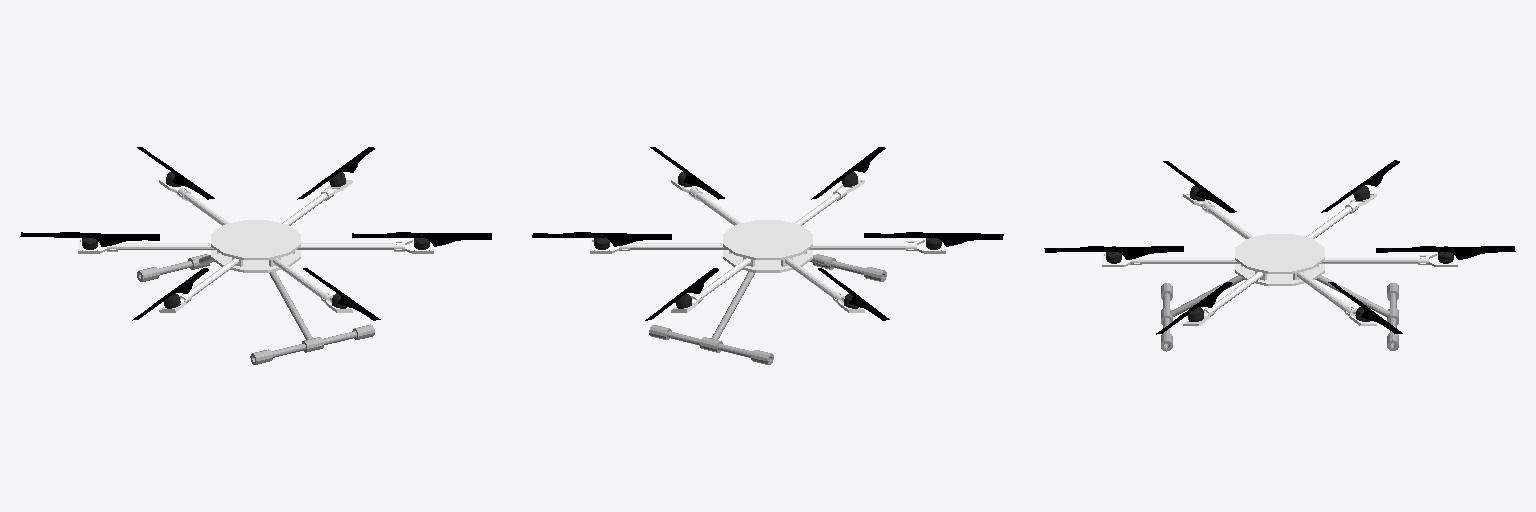
--- Facts derived from the render (not from the file) ---
The picture shows the robot from 3 angles, left to right: view 1: azimuth 30°, elevation 25°; view 2: azimuth 150°, elevation 25°; view 3: azimuth 270°, elevation 25°; orthographic projection.
Robot: drone — 21 links, 20 joints (6 continuous, 14 fixed); root link base_link; default pose: every joint at zero.
Visible links, largest first — view 1: base_link, foot_link_right, arm_link_1, blade_link_1, blade_link_4, arm_link_4, foot_link_left, arm_link_6, arm_link_5, arm_link_2, arm_link_3; view 2: base_link, foot_link_left, arm_link_5, blade_link_5, blade_link_2, arm_link_2, foot_link_right, arm_link_4, arm_link_3, arm_link_1, arm_link_6; view 3: base_link, foot_link_left, foot_link_right, arm_link_3, blade_link_6, blade_link_3, arm_link_6, arm_link_2, arm_link_1, arm_link_4, arm_link_5.
Link boxes in pixels (bbox=[...]): base_link: bbox=[211, 220, 300, 272]; foot_link_right: bbox=[250, 271, 374, 364]; arm_link_1: bbox=[297, 239, 433, 253]; blade_link_1: bbox=[352, 232, 491, 246]; blade_link_4: bbox=[20, 232, 159, 246]; arm_link_4: bbox=[78, 239, 214, 253]; foot_link_left: bbox=[137, 254, 214, 281]; arm_link_6: bbox=[273, 258, 352, 312]; arm_link_5: bbox=[159, 258, 238, 312]; arm_link_2: bbox=[282, 180, 352, 225]; arm_link_3: bbox=[159, 180, 229, 225]; base_link: bbox=[723, 220, 812, 272]; foot_link_left: bbox=[649, 271, 773, 364]; arm_link_5: bbox=[809, 239, 945, 253]; blade_link_5: bbox=[864, 232, 1003, 246]; blade_link_2: bbox=[532, 232, 671, 246]; arm_link_2: bbox=[590, 239, 726, 253]; foot_link_right: bbox=[809, 254, 886, 281]; arm_link_4: bbox=[785, 258, 864, 312]; arm_link_3: bbox=[671, 258, 750, 312]; arm_link_1: bbox=[671, 180, 741, 225]; arm_link_6: bbox=[794, 180, 864, 225]; base_link: bbox=[1235, 234, 1324, 285]; foot_link_left: bbox=[1315, 275, 1398, 350]; foot_link_right: bbox=[1161, 275, 1244, 351]; arm_link_3: bbox=[1320, 253, 1457, 266]; blade_link_6: bbox=[1044, 246, 1183, 259]; blade_link_3: bbox=[1376, 246, 1515, 259]; arm_link_6: bbox=[1102, 253, 1239, 266]; arm_link_2: bbox=[1297, 272, 1376, 325]; arm_link_1: bbox=[1183, 272, 1262, 325]; arm_link_4: bbox=[1306, 194, 1376, 238]; arm_link_5: bbox=[1183, 194, 1252, 238].
Bounding box of the posed robot: 1.51 × 1.72 × 0.3067 m (x, y, z).
Meshes: 21 distinct files referenced, 21 mesh visuals loaded (21 binary STL).

URDF robot description (drone):
<?xml version="1.0"?>
<robot
  name="drone">
  
  <gazebo>
    <plugin name="propulsion_plugin" filename="libpropulsion_plugin.so">
    </plugin>
  </gazebo>

  <!--<gazebo>
    <plugin name="control_plugin" filename="libcontrol_plugin.so">
    </plugin>
  </gazebo>-->

  <gazebo>
    <plugin name="fake_sensor_plugin" filename="libfake_sensor_plugin.so">
    </plugin>
  </gazebo>

  <gazebo>
    <plugin name="gazebo_ros_control" filename="libgazebo_ros_control.so">
      <robotNamespace>/drone</robotNamespace>
    </plugin>
  </gazebo>

  <gazebo>
    <plugin name="drone_internal_imu_plugin" filename="libhector_gazebo_ros_imu.so" >
      <robotNamespace>/drone</robotNamespace>
      <alwaysOn>true</alwaysOn>
      <bodyName>base_link</bodyName>
      <frameName>base_link</frameName>
      <topicName>IMU/imu_data</topicName>
      <serviceName>drone/internal_sensors/imu_service</serviceName>
      <updateRate>100.0</updateRate>
      <gaussianNoise>0.001</gaussianNoise>
      <!-- accelerometer params -->
      <accelOffset>0.0 0.0 0.0</accelOffset>
      <accelGaussianNoise>0.0003 0.0003 0.0003</accelGaussianNoise>
      <accelDrift>0.00004 0.00004 0.00004</accelDrift>
      <accelFrequency>0.0025 0.0025 0.0025</accelFrequency>
      <!-- gyroscope params -->
      <rateOffset>0.0 0.0 0.0</rateOffset>
      <rateDrift>0.01 0.01 0.01</rateDrift>
      <rateDriftFrequency>0.001 0.001 0.001</rateDriftFrequency>
      <rateGaussianNoise>0.01 0.01 0.01</rateGaussianNoise>
    </plugin>
  </gazebo>

  <gazebo>
    <plugin name="drone_internal_magnetic_sim" filename="libhector_gazebo_ros_magnetic.so">
      <robotNamespace>/drone</robotNamespace>
      <updateRate>100.0</updateRate>
      <bodyName>base_link</bodyName>
      <frameId>base_link</frameId>
      <topicName>MAGNET/magnetic_data</topicName>
      <offset>0 0 0</offset>
      <drift>0.0 0.0 0.0</drift>
      <gaussianNoise>1.3e-3 1.3e-3 1.3e-3</gaussianNoise>
    </plugin>
  </gazebo>

  <gazebo>
    <plugin name="drone_internal_gps_sim" filename="libhector_gazebo_ros_gps.so">
      <robotNamespace>/drone</robotNamespace>
      <updateRate>4.0</updateRate>
      <bodyName>base_link</bodyName>
      <frameId>base_link</frameId>
      <topicName>GPS/fix</topicName>
      <velocityTopicName>GPS/fix_velocity</velocityTopicName>
      <referenceLatitude>49.860246</referenceLatitude>
      <referenceLongitude>8.687077</referenceLongitude>
      <drift>0.0 0.0 0.0</drift>
      <gaussianNoise>0.01 0.01 0.01</gaussianNoise>
      <velocityDrift>0 0 0</velocityDrift>
      <velocityGaussianNoise>0.01 0.01 0.01</velocityGaussianNoise>
    </plugin>
  </gazebo>

  <gazebo reference="base_link">
    <sensor type="camera" name="camera1">
      <update_rate>30.0</update_rate>
      <camera name="head">
        <vertical_fov>3.1415926</vertical_fov>
        <image>
          <width>800</width>
          <height>800</height>
          <format>R8G8B8</format>
        </image>
        <clip>
          <near>0.02</near>
          <far>300</far>
        </clip>
        <noise>
          <type>gaussian</type>  -->
          <!-- Noise is sampled independently per pixel on each frame.
               That pixel's noise value is added to each of its color
               channels, which at that point lie in the range [0,1]. -->
          <mean>0.0</mean>
          <stddev>0.007</stddev>
        </noise>
      </camera>
      <plugin name="camera_controller" filename="libgazebo_ros_camera.so">
        <robotNamespace>/drone</robotNamespace>
        <alwaysOn>true</alwaysOn>
        <updateRate>0.0</updateRate>
        <cameraName>camera1</cameraName>
        <imageTopicName>image_raw</imageTopicName>
        <cameraInfoTopicName>camera_info</cameraInfoTopicName>
        <frameName>base_link</frameName>
        <hackBaseline>0.07</hackBaseline>
        <distortionK1>0.0</distortionK1>
        <distortionK2>0.0</distortionK2>
        <distortionK3>0.0</distortionK3>
        <distortionT1>0.0</distortionT1>
        <distortionT2>0.0</distortionT2>
      </plugin>
    </sensor>
  </gazebo>


  <!-- <link
    name="dummy_link">
    <inertial>
      <origin
        xyz="4.8268E-18 2.8159E-17 0.005"
        rpy="0 0 0" />
      <mass
        value="0" />
      <inertia
        ixx="0"
        ixy="0"
        ixz="0"
        iyy="0"
        iyz="0"
        izz="0" />
    </inertial>
    <visual>
      <origin
        xyz="0 0 0"
        rpy="0 0 0" />
      <geometry>
        <mesh
          filename="package://flypulator_description/meshes/dummy_link.STL" />
      </geometry>
      <material
        name="">
        <color
          rgba="1 1 1 1" />
      </material>
    </visual>
    <collision>
      <origin
        xyz="0 0 0"
        rpy="0 0 0" />
      <geometry>
        <mesh
          filename="package://flypulator_description/meshes/dummy_link.STL" />
      </geometry>
    </collision>
  </link> -->
  <link
    name="base_link">
    <inertial>
      <origin
        xyz="5.4812E-15 1.1988E-14 0.03"
        rpy="0 0 0" />
      <mass
        value="3.2461" />
      <inertia
        ixx="0.024024"
        ixy="4.5619E-06"
        ixz="2.0062E-17"
        iyy="0.024019"
        iyz="-6.6864E-17"
        izz="0.044056" />
    </inertial>
    <visual>
      <origin
        xyz="0 0 0"
        rpy="0 0 0" />
      <geometry>
        <mesh
          filename="package://flypulator_description/meshes/base_link.STL" />
      </geometry>
      <material
        name="">
        <color
          rgba="1 1 1 1" />
      </material>
    </visual>
    <collision>
      <origin
        xyz="0 0 0"
        rpy="0 0 0" />
      <geometry>
        <mesh
          filename="package://flypulator_description/meshes/base_link.STL" />
      </geometry>
    </collision>
  </link>
  <!-- <joint
    name="base_joint"
    type="fixed">
    <origin
      xyz="0 0 0"
      rpy="0 0 0" />
    <parent
      link="dummy_link" />
    <child
      link="base_link" />
    <axis
      xyz="0 0 0" />
  </joint> -->
  <link
    name="arm_link_1">
    <inertial>
      <origin
        xyz="7.5838E-05 0.35929 0.00028889"
        rpy="0 0 0" />
      <mass
        value="0.11307" />
      <inertia
        ixx="0.0035834"
        ixy="-1.7536E-06"
        ixz="3.334E-06"
        iyy="2.9806E-05"
        iyz="-6.7287E-06"
        izz="0.0035963" />
    </inertial>
    <visual>
      <origin
        xyz="0 0 0"
        rpy="0 0 0" />
      <geometry>
        <mesh
          filename="package://flypulator_description/meshes/arm_link_1.STL" />
      </geometry>
      <material
        name="">
        <color
          rgba="1 1 1 1" />
      </material>
    </visual>
    <collision>
      <origin
        xyz="0 0 0"
        rpy="0 0 0" />
      <geometry>
        <mesh
          filename="package://flypulator_description/meshes/arm_link_1.STL" />
      </geometry>
    </collision>
  </link>
  <joint
    name="arm_joint_1"
    type="fixed">
    <origin
      xyz="0.037926 -0.021897 0.03"
      rpy="0 0 -2.0944" />
    <parent
      link="base_link" />
    <child
      link="arm_link_1" />
    <axis
      xyz="0 0 0" />
  </joint>
  <link
    name="motor_link_1">
    <inertial>
      <origin
        xyz="2.0629E-07 -3.6291E-08 0.019536"
        rpy="0 0 0" />
      <mass
        value="0.098041" />
      <inertia
        ixx="3.2619E-05"
        ixy="-3.493E-10"
        ixz="3.4958E-10"
        iyy="3.2621E-05"
        iyz="-6.3762E-11"
        izz="4.3659E-05" />
    </inertial>
    <visual>
      <origin
        xyz="0 0 0"
        rpy="0 0 0" />
      <geometry>
        <mesh
          filename="package://flypulator_description/meshes/motor_link_1.STL" />
      </geometry>
      <material
        name="">
        <color
          rgba="0.2 0.2 0.2 1" />
      </material>
    </visual>
    <collision>
      <origin
        xyz="0 0 0"
        rpy="0 0 0" />
      <geometry>
        <mesh
          filename="package://flypulator_description/meshes/motor_link_1.STL" />
      </geometry>
    </collision>
  </link>
  <joint
    name="motor_joint_1"
    type="fixed">
    <origin
      xyz="0.0011025 0.5623 0.0048775"
      rpy="-0.23736 -0.00041702 -1.5725" />
    <parent
      link="arm_link_1" />
    <child
      link="motor_link_1" />
    <axis
      xyz="0 0 0" />
  </joint>
  <link
    name="blade_link_1">
    <inertial>
      <origin
        xyz="3.7145E-06 1.0619E-06 -0.0016268"
        rpy="0 0 0" />
      <mass
        value="0.062744" />
      <inertia
        ixx="7.9927E-06"
        ixy="2.4595E-05"
        ixz="5.8974E-10"
        iyy="0.0014004"
        iyz="1.7645E-10"
        izz="0.0014072" />
    </inertial>
    <visual>
      <origin
        xyz="0 0 0"
        rpy="0 0 0" />
      <geometry>
        <mesh
          filename="package://flypulator_description/meshes/blade_link_1.STL" />
      </geometry>
      <material
        name="">
        <color
          rgba="0 0 0 1" />
      </material>
    </visual>
    <collision>
      <origin
        xyz="0 0 0"
        rpy="0 0 0" />
      <geometry>
        <mesh
          filename="package://flypulator_description/meshes/blade_link_1.STL" />
      </geometry>
    </collision>
  </link>
  <joint
    name="blade_joint_1"
    type="continuous">
    <origin
      xyz="0 0 0.046"
      rpy="0 0 0" />
    <parent
      link="motor_link_1" />
    <child
      link="blade_link_1" />
    <axis
      xyz="0 0 1" />
    <limit
      effort="0"
      velocity="630" />
  </joint>
  <link
    name="arm_link_2">
    <inertial>
      <origin
        xyz="-6.4599E-05 0.3593 0.00029161"
        rpy="0 0 0" />
      <mass
        value="0.11307" />
      <inertia
        ixx="0.0035834"
        ixy="1.516E-06"
        ixz="-3.332E-06"
        iyy="2.9806E-05"
        iyz="-6.7862E-06"
        izz="0.0035964" />
    </inertial>
    <visual>
      <origin
        xyz="0 0 0"
        rpy="0 0 0" />
      <geometry>
        <mesh
          filename="package://flypulator_description/meshes/arm_link_2.STL" />
      </geometry>
      <material
        name="">
        <color
          rgba="1 1 1 1" />
      </material>
    </visual>
    <collision>
      <origin
        xyz="0 0 0"
        rpy="0 0 0" />
      <geometry>
        <mesh
          filename="package://flypulator_description/meshes/arm_link_2.STL" />
      </geometry>
    </collision>
  </link>
  <joint
    name="arm_joint_2"
    type="fixed">
    <origin
      xyz="0.036827 0.021262 0.03"
      rpy="0 0 -1.0472" />
    <parent
      link="base_link" />
    <child
      link="arm_link_2" />
    <axis
      xyz="0 0 0" />
  </joint>
  <link
    name="motor_link_2">
    <inertial>
      <origin
        xyz="1.2767E-07 1.5705E-07 0.019536"
        rpy="0 0 0" />
      <mass
        value="0.098041" />
      <inertia
        ixx="3.2621E-05"
        ixy="-6.6552E-10"
        ixz="2.194E-10"
        iyy="3.2619E-05"
        iyz="2.699E-10"
        izz="4.3659E-05" />
    </inertial>
    <visual>
      <origin
        xyz="0 0 0"
        rpy="0 0 0" />
      <geometry>
        <mesh
          filename="package://flypulator_description/meshes/motor_link_2.STL" />
      </geometry>
      <material
        name="">
        <color
          rgba="0.2 0.2 0.2 1" />
      </material>
    </visual>
    <collision>
      <origin
        xyz="0 0 0"
        rpy="0 0 0" />
      <geometry>
        <mesh
          filename="package://flypulator_description/meshes/motor_link_2.STL" />
      </geometry>
    </collision>
  </link>
  <joint
    name="motor_joint_2"
    type="fixed">
    <origin
      xyz="-0.001249 0.56231 0.0048421"
      rpy="0.23736 0.00041702 -1.5725" />
    <parent
      link="arm_link_2" />
    <child
      link="motor_link_2" />
    <axis
      xyz="0 0 0" />
  </joint>
  <link
    name="blade_link_2">
    <inertial>
      <origin
        xyz="-1.4066E-05 -2.5524E-06 -0.0016265"
        rpy="0 0 0" />
      <mass
        value="0.062743" />
      <inertia
        ixx="8.3687E-06"
        ixy="3.3633E-05"
        ixz="-2.0545E-09"
        iyy="0.0014001"
        iyz="-4.4118E-10"
        izz="0.0014074" />
    </inertial>
    <visual>
      <origin
        xyz="0 0 0"
        rpy="0 0 0" />
      <geometry>
        <mesh
          filename="package://flypulator_description/meshes/blade_link_2.STL" />
      </geometry>
      <material
        name="">
        <color
          rgba="0 0 0 1" />
      </material>
    </visual>
    <collision>
      <origin
        xyz="0 0 0"
        rpy="0 0 0" />
      <geometry>
        <mesh
          filename="package://flypulator_description/meshes/blade_link_2.STL" />
      </geometry>
    </collision>
  </link>
  <joint
    name="blade_joint_2"
    type="continuous">
    <origin
      xyz="0 0 0.046"
      rpy="0 0 0" />
    <parent
      link="motor_link_2" />
    <child
      link="blade_link_2" />
    <axis
      xyz="0 0 1" />
    <limit
      effort="0"
      velocity="630" />
  </joint>
  <link
    name="arm_link_3">
    <inertial>
      <origin
        xyz="7.5838E-05 0.3593 0.00028889"
        rpy="0 0 0" />
      <mass
        value="0.11307" />
      <inertia
        ixx="0.0035834"
        ixy="-1.7536E-06"
        ixz="3.334E-06"
        iyy="2.9806E-05"
        iyz="-6.7287E-06"
        izz="0.0035963" />
    </inertial>
    <visual>
      <origin
        xyz="0 0 0"
        rpy="0 0 0" />
      <geometry>
        <mesh
          filename="package://flypulator_description/meshes/arm_link_3.STL" />
      </geometry>
      <material
        name="">
        <color
          rgba="1 1 1 1" />
      </material>
    </visual>
    <collision>
      <origin
        xyz="0 0 0"
        rpy="0 0 0" />
      <geometry>
        <mesh
          filename="package://flypulator_description/meshes/arm_link_3.STL" />
      </geometry>
    </collision>
  </link>
  <joint
    name="arm_joint_3"
    type="fixed">
    <origin
      xyz="0 0.043785 0.03"
      rpy="0 0 0" />
    <parent
      link="base_link" />
    <child
      link="arm_link_3" />
    <axis
      xyz="0 0 0" />
  </joint>
  <link
    name="motor_link_3">
    <inertial>
      <origin
        xyz="-1.8501E-07 -8.6531E-08 0.019536"
        rpy="0 0 0" />
      <mass
        value="0.098041" />
      <inertia
        ixx="3.262E-05"
        ixy="-1.0418E-09"
        ixz="-3.1601E-10"
        iyy="3.262E-05"
        iyz="-1.4922E-10"
        izz="4.366E-05" />
    </inertial>
    <visual>
      <origin
        xyz="0 0 0"
        rpy="0 0 0" />
      <geometry>
        <mesh
          filename="package://flypulator_description/meshes/motor_link_3.STL" />
      </geometry>
      <material
        name="">
        <color
          rgba="0.2 0.2 0.2 1" />
      </material>
    </visual>
    <collision>
      <origin
        xyz="0 0 0"
        rpy="0 0 0" />
      <geometry>
        <mesh
          filename="package://flypulator_description/meshes/motor_link_3.STL" />
      </geometry>
    </collision>
  </link>
  <joint
    name="motor_joint_3"
    type="fixed">
    <origin
      xyz="0.00110246220918394 0.562306513541 0.00487752564526059"
      rpy="-0.237364418851689 -0.000417019559749972 -1.57252008000707" />
    <parent
      link="arm_link_3" />
    <child
      link="motor_link_3" />
    <axis
      xyz="0 0 0" />
  </joint>
  <link
    name="blade_link_3">
    <inertial>
      <origin
        xyz="2.3972E-05 3.4344E-06 -0.0016264"
        rpy="0 0 0" />
      <mass
        value="0.062747" />
      <inertia
        ixx="7.6116E-06"
        ixy="-8.7367E-06"
        ixz="1.6491E-09"
        iyy="0.001401"
        iyz="4.1878E-10"
        izz="0.0014075" />
    </inertial>
    <visual>
      <origin
        xyz="0 0 0"
        rpy="0 0 0" />
      <geometry>
        <mesh
          filename="package://flypulator_description/meshes/blade_link_3.STL" />
      </geometry>
      <material
        name="">
        <color
          rgba="0 0 0 1" />
      </material>
    </visual>
    <collision>
      <origin
        xyz="0 0 0"
        rpy="0 0 0" />
      <geometry>
        <mesh
          filename="package://flypulator_description/meshes/blade_link_3.STL" />
      </geometry>
    </collision>
  </link>
  <joint
    name="blade_joint_3"
    type="continuous">
    <origin
      xyz="0 0 0.046"
      rpy="0 0 0" />
    <parent
      link="motor_link_3" />
    <child
      link="blade_link_3" />
    <axis
      xyz="0 0 1" />
    <limit
      effort="0"
      velocity="630" />
  </joint>
  <link
    name="arm_link_4">
    <inertial>
      <origin
        xyz="0.00030985 0.35929 0.000482"
        rpy="0 0 0" />
      <mass
        value="0.11307" />
      <inertia
        ixx="0.0035834"
        ixy="-2.1858E-06"
        ixz="-3.3402E-06"
        iyy="2.9815E-05"
        iyz="-8.6726E-06"
        izz="0.0035963" />
    </inertial>
    <visual>
      <origin
        xyz="0 0 0"
        rpy="0 0 0" />
      <geometry>
        <mesh
          filename="package://flypulator_description/meshes/arm_link_4.STL" />
      </geometry>
      <material
        name="">
        <color
          rgba="1 1 1 1" />
      </material>
    </visual>
    <collision>
      <origin
        xyz="0 0 0"
        rpy="0 0 0" />
      <geometry>
        <mesh
          filename="package://flypulator_description/meshes/arm_link_4.STL" />
      </geometry>
    </collision>
  </link>
  <joint
    name="arm_joint_4"
    type="fixed">
    <origin
      xyz="-0.037927 0.021897 0.03"
      rpy="-0.0005299 2.7433E-07 1.0482" />
    <parent
      link="base_link" />
    <child
      link="arm_link_4" />
    <axis
      xyz="0 0 0" />
  </joint>
  <link
    name="motor_link_4">
    <inertial>
      <origin
        xyz="-2.06294589188971E-07 3.62905190291057E-08 0.0195362496329407"
        rpy="0 0 0" />
      <mass
        value="0.0980406960173388" />
      <inertia
        ixx="3.26188033140448E-05"
        ixy="-3.49302598897268E-10"
        ixz="-3.49575062028029E-10"
        iyy="3.26209244263571E-05"
        iyz="6.37620073400378E-11"
        izz="4.36594174532518E-05" />
    </inertial>
    <visual>
      <origin
        xyz="0 0 0"
        rpy="0 0 0" />
      <geometry>
        <mesh
          filename="package://flypulator_description/meshes/motor_link_4.STL" />
      </geometry>
      <material
        name="">
        <color
          rgba="0.2 0.2 0.2 1" />
      </material>
    </visual>
    <collision>
      <origin
        xyz="0 0 0"
        rpy="0 0 0" />
      <geometry>
        <mesh
          filename="package://flypulator_description/meshes/motor_link_4.STL" />
      </geometry>
    </collision>
  </link>
  <joint
    name="motor_joint_4"
    type="fixed">
    <origin
      xyz="-0.000662937524737199 0.56229546947751 0.00514004450059716"
      rpy="0.237363227515671 0.000946916948792575 -1.5735622739509" />
    <parent
      link="arm_link_4" />
    <child
      link="motor_link_4" />
    <axis
      xyz="0 0 0" />
  </joint>
  <link
    name="blade_link_4">
    <inertial>
      <origin
        xyz="-5.8684492045824E-06 -1.12567952349242E-06 -0.00162678065694306"
        rpy="0 0 0" />
      <mass
        value="0.062744669954973" />
      <inertia
        ixx="1.00684183373283E-05"
        ixy="5.90869014021767E-05"
        ixz="-1.05706811451692E-09"
        iyy="0.00139834222563913"
        iyz="-1.77328404330078E-10"
        izz="0.00140729381779738" />
    </inertial>
    <visual>
      <origin
        xyz="0 0 0"
        rpy="0 0 0" />
      <geometry>
        <mesh
          filename="package://flypulator_description/meshes/blade_link_4.STL" />
      </geometry>
      <material
        name="">
        <color
          rgba="0 0 0 1" />
      </material>
    </visual>
    <collision>
      <origin
        xyz="0 0 0"
        rpy="0 0 0" />
      <geometry>
        <mesh
          filename="package://flypulator_description/meshes/blade_link_4.STL" />
      </geometry>
    </collision>
  </link>
  <joint
    name="blade_joint_4"
    type="continuous">
    <origin
      xyz="0 0 0.046"
      rpy="0 0 0" />
    <parent
      link="motor_link_4" />
    <child
      link="blade_link_4" />
    <axis
      xyz="0 0 1" />
    <limit
      effort="0"
      velocity="630" />
  </joint>
  <link
    name="arm_link_5">
    <inertial>
      <origin
        xyz="7.5839E-05 0.3593 0.00028889"
        rpy="0 0 0" />
      <mass
        value="0.11307" />
      <inertia
        ixx="0.0035834"
        ixy="-1.7536E-06"
        ixz="3.334E-06"
        iyy="2.9806E-05"
        iyz="-6.7287E-06"
        izz="0.0035963" />
    </inertial>
    <visual>
      <origin
        xyz="0 0 0"
        rpy="0 0 0" />
      <geometry>
        <mesh
          filename="package://flypulator_description/meshes/arm_link_5.STL" />
      </geometry>
      <material
        name="">
        <color
          rgba="1 1 1 1" />
      </material>
    </visual>
    <collision>
      <origin
        xyz="0 0 0"
        rpy="0 0 0" />
      <geometry>
        <mesh
          filename="package://flypulator_description/meshes/arm_link_5.STL" />
      </geometry>
    </collision>
  </link>
  <joint
    name="arm_joint_5"
    type="fixed">
    <origin
      xyz="-0.036827 -0.021262 0.03"
      rpy="0 0 2.0944" />
    <parent
      link="base_link" />
    <child
      link="arm_link_5" />
    <axis
      xyz="0 0 0" />
  </joint>
  <link
    name="motor_link_5">
    <inertial>
      <origin
        xyz="-6.66302263363505E-08 1.97997260587002E-07 0.0195362472105891"
        rpy="0 0 0" />
      <mass
        value="0.0980407161578018" />
      <inertia
        ixx="3.26201560138298E-05"
        ixy="1.04792842556447E-09"
        ixz="-1.11000640600106E-10"
        iyy="3.2619613350915E-05"
        iyz="3.36992577574994E-10"
        izz="4.36594566063806E-05" />
    </inertial>
    <visual>
      <origin
        xyz="0 0 0"
        rpy="0 0 0" />
      <geometry>
        <mesh
          filename="package://flypulator_description/meshes/motor_link_5.STL" />
      </geometry>
      <material
        name="">
        <color
          rgba="0.2 0.2 0.2 1" />
      </material>
    </visual>
    <collision>
      <origin
        xyz="0 0 0"
        rpy="0 0 0" />
      <geometry>
        <mesh
          filename="package://flypulator_description/meshes/motor_link_5.STL" />
      </geometry>
    </collision>
  </link>
  <joint
    name="motor_joint_5"
    type="fixed">
    <origin
      xyz="0.001102462209182 0.562306513541 0.00487752564526311"
      rpy="-0.237364418851719 -0.000417019559769994 -1.57252008000713" />
    <parent
      link="arm_link_5" />
    <child
      link="motor_link_5" />
    <axis
      xyz="0 0 0" />
  </joint>
  <link
    name="blade_link_5">
    <inertial>
      <origin
        xyz="1.40657839642344E-05 2.55238020613335E-06 -0.00162646027788624"
        rpy="0 0 0" />
      <mass
        value="0.0627428768132032" />
      <inertia
        ixx="8.36866834540492E-06"
        ixy="3.36333705704991E-05"
        ixz="2.05440542622532E-09"
        iyy="0.00140013178281873"
        iyz="4.41180476618572E-10"
        izz="0.00140738407753076" />
    </inertial>
    <visual>
      <origin
        xyz="0 0 0"
        rpy="0 0 0" />
      <geometry>
        <mesh
          filename="package://flypulator_description/meshes/blade_link_5.STL" />
      </geometry>
      <material
        name="">
        <color
          rgba="0 0 0 1" />
      </material>
    </visual>
    <collision>
      <origin
        xyz="0 0 0"
        rpy="0 0 0" />
      <geometry>
        <mesh
          filename="package://flypulator_description/meshes/blade_link_5.STL" />
      </geometry>
    </collision>
  </link>
  <joint
    name="blade_joint_5"
    type="continuous">
    <origin
      xyz="0 0 0.046"
      rpy="0 0 0" />
    <parent
      link="motor_link_5" />
    <child
      link="blade_link_5" />
    <axis
      xyz="0 0 1" />
    <limit
      effort="0"
      velocity="630" />
  </joint>
  <link
    name="arm_link_6">
    <inertial>
      <origin
        xyz="-6.4599E-05 0.3593 0.00029161"
        rpy="0 0 0" />
      <mass
        value="0.11307" />
      <inertia
        ixx="0.0035834"
        ixy="1.516E-06"
        ixz="-3.332E-06"
        iyy="2.9806E-05"
        iyz="-6.7862E-06"
        izz="0.0035964" />
    </inertial>
    <visual>
      <origin
        xyz="0 0 0"
        rpy="0 0 0" />
      <geometry>
        <mesh
          filename="package://flypulator_description/meshes/arm_link_6.STL" />
      </geometry>
      <material
        name="">
        <color
          rgba="1 1 1 1" />
      </material>
    </visual>
    <collision>
      <origin
        xyz="0 0 0"
        rpy="0 0 0" />
      <geometry>
        <mesh
          filename="package://flypulator_description/meshes/arm_link_6.STL" />
      </geometry>
    </collision>
  </link>
  <joint
    name="arm_joint_6"
    type="fixed">
    <origin
      xyz="0 -0.043785 0.03"
      rpy="9.3861E-16 1.6938E-16 -3.1416" />
    <parent
      link="base_link" />
    <child
      link="arm_link_6" />
    <axis
      xyz="0 0 0" />
  </joint>
  <link
    name="motor_link_6">
    <inertial>
      <origin
        xyz="1.4274E-07 1.5405E-07 0.019536"
        rpy="0 0 0" />
      <mass
        value="0.098041" />
      <inertia
        ixx="3.2621E-05"
        ixy="-7.9538E-10"
        ixz="2.4353E-10"
        iyy="3.2619E-05"
        iyz="2.5954E-10"
        izz="4.3659E-05" />
    </inertial>
    <visual>
      <origin
        xyz="0 0 0"
        rpy="0 0 0" />
      <geometry>
        <mesh
          filename="package://flypulator_description/meshes/motor_link_6.STL" />
      </geometry>
      <material
        name="">
        <color
          rgba="0.2 0.2 0.2 1" />
      </material>
    </visual>
    <collision>
      <origin
        xyz="0 0 0"
        rpy="0 0 0" />
      <geometry>
        <mesh
          filename="package://flypulator_description/meshes/motor_link_6.STL" />
      </geometry>
    </collision>
  </link>
  <joint
    name="motor_joint_6"
    type="fixed">
    <origin
      xyz="-0.00124895892184055 0.562306513541 0.00484208436052314"
      rpy="0.237364418851732 0.000417019559751141 -1.57252008000707" />
    <parent
      link="arm_link_6" />
    <child
      link="motor_link_6" />
    <axis
      xyz="0 0 0" />
  </joint>
  <link
    name="blade_link_6">
    <inertial>
      <origin
        xyz="-2.3972E-05 -3.4343E-06 -0.0016264"
        rpy="0 0 0" />
      <mass
        value="0.062747" />
      <inertia
        ixx="7.6116E-06"
        ixy="-8.7367E-06"
        ixz="-1.6495E-09"
        iyy="0.001401"
        iyz="-4.1905E-10"
        izz="0.0014075" />
    </inertial>
    <visual>
      <origin
        xyz="0 0 0"
        rpy="0 0 0" />
      <geometry>
        <mesh
          filename="package://flypulator_description/meshes/blade_link_6.STL" />
      </geometry>
      <material
        name="">
        <color
          rgba="0 0 0 1" />
      </material>
    </visual>
    <collision>
      <origin
        xyz="0 0 0"
        rpy="0 0 0" />
      <geometry>
        <mesh
          filename="package://flypulator_description/meshes/blade_link_6.STL" />
      </geometry>
    </collision>
  </link>
  <joint
    name="blade_joint_6"
    type="continuous">
    <origin
      xyz="0 0 0.046"
      rpy="0 0 0" />
    <parent
      link="motor_link_6" />
    <child
      link="blade_link_6" />
    <axis
      xyz="0 0 1" />
    <limit
      effort="0"
      velocity="630" />
  </joint>
  <link
    name="foot_link_left">
    <inertial>
      <origin
        xyz="-0.00011774 0.10021 -0.00011751"
        rpy="0 0 0" />
      <mass
        value="0.63218" />
      <inertia
        ixx="0.020147"
        ixy="1.3816E-05"
        ixz="-1.5221E-07"
        iyy="0.0087761"
        iyz="1.9672E-05"
        izz="0.011488" />
    </inertial>
    <visual>
      <origin
        xyz="0 0 0"
        rpy="0 0 0" />
      <geometry>
        <mesh
          filename="package://flypulator_description/meshes/foot_link_left.STL" />
      </geometry>
      <material
        name="">
        <color
          rgba="0.75294 0.75294 0.75294 1" />
      </material>
    </visual>
    <collision>
      <origin
        xyz="0 0 0"
        rpy="0 0 0" />
      <geometry>
        <mesh
          filename="package://flypulator_description/meshes/foot_link_left.STL" />
      </geometry>
    </collision>
  </link>
  <joint
    name="foot_link_left"
    type="fixed">
    <origin
      xyz="-0.00062258 0.40242 -0.1931"
      rpy="1.5708 1.0405 -1.5708" />
    <parent
      link="base_link" />
    <child
      link="foot_link_left" />
    <axis
      xyz="0 0 0" />
  </joint>
  <link
    name="foot_link_right">
    <inertial>
      <origin
        xyz="-0.00011774 0.10021 -0.00011751"
        rpy="0 0 0" />
      <mass
        value="0.63218" />
      <inertia
        ixx="0.020147"
        ixy="1.3816E-05"
        ixz="-1.5221E-07"
        iyy="0.0087761"
        iyz="1.9672E-05"
        izz="0.011488" />
    </inertial>
    <visual>
      <origin
        xyz="0 0 0"
        rpy="0 0 0" />
      <geometry>
        <mesh
          filename="package://flypulator_description/meshes/foot_link_right.STL" />
      </geometry>
      <material
        name="">
        <color
          rgba="0.75294 0.75294 0.75294 1" />
      </material>
    </visual>
    <collision>
      <origin
        xyz="0 0 0"
        rpy="0 0 0" />
      <geometry>
        <mesh
          filename="package://flypulator_description/meshes/foot_link_right.STL" />
      </geometry>
    </collision>
  </link>
  <joint
    name="foot_joint_right"
    type="fixed">
    <origin
      xyz="0.00062258 -0.40242 -0.1931"
      rpy="1.5708 1.0405 1.5708" />
    <parent
      link="base_link" />
    <child
      link="foot_link_right" />
    <axis
      xyz="0 0 0" />
  </joint>
</robot>
